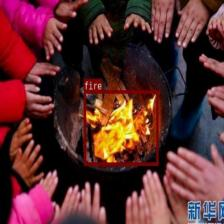fire: (83, 90, 158, 165)
